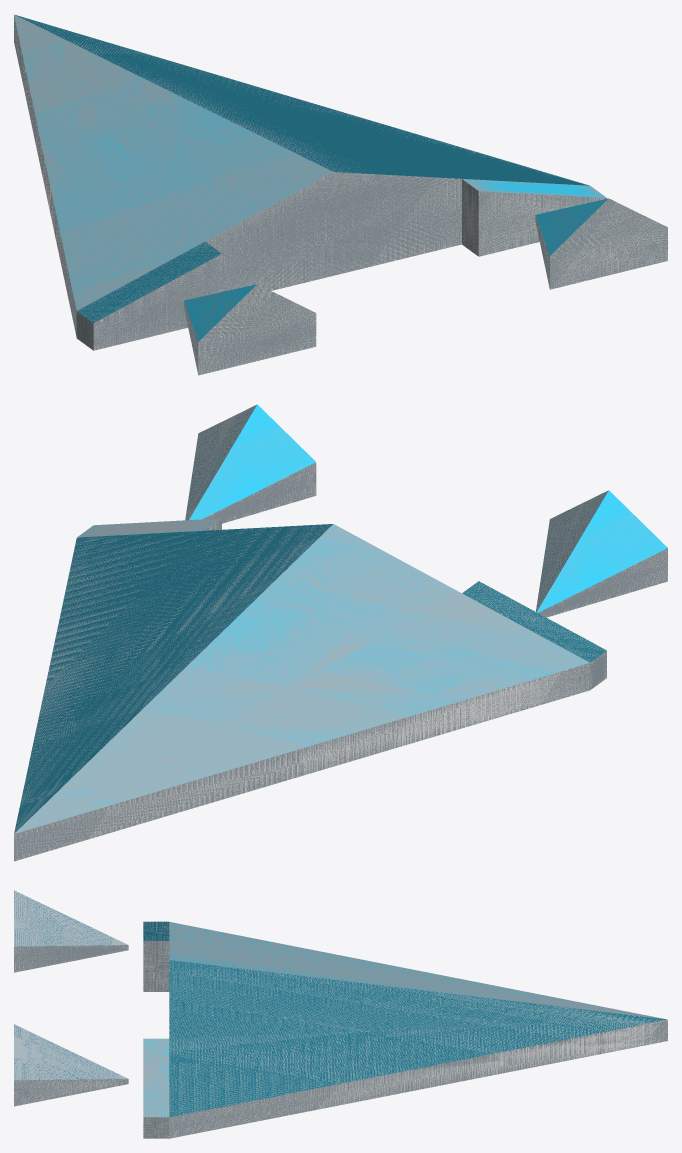
File: buff_boost.fbx
3 views of the same model, one above another, from view 1: azimuth 30°, elevation 25°; view 2: azimuth 150°, elevation 25°; view 3: azimuth 270°, elevation 25° (orthographic). The views are drawn at different scales.
Visible parts, largest first — view 1: Group1, Component_1_2, Component_1_1; view 2: Group1, Component_1_2, Component_1_1; view 3: Group1, Component_1_1, Component_1_2.
Part boxes in pixels (left/top/right/bottom): Group1: left=14, top=14, right=606, bottom=350; Component_1_2: left=184, top=284, right=316, bottom=375; Component_1_1: left=535, top=198, right=667, bottom=289; Group1: left=14, top=518, right=606, bottom=861; Component_1_2: left=536, top=490, right=667, bottom=617; Component_1_1: left=185, top=404, right=316, bottom=523; Group1: left=143, top=921, right=667, bottom=1138; Component_1_1: left=14, top=1024, right=128, bottom=1106; Component_1_2: left=14, top=890, right=128, bottom=972.
Bounding box in the file's own units: 1.76 × 0.352 × 2.49.
